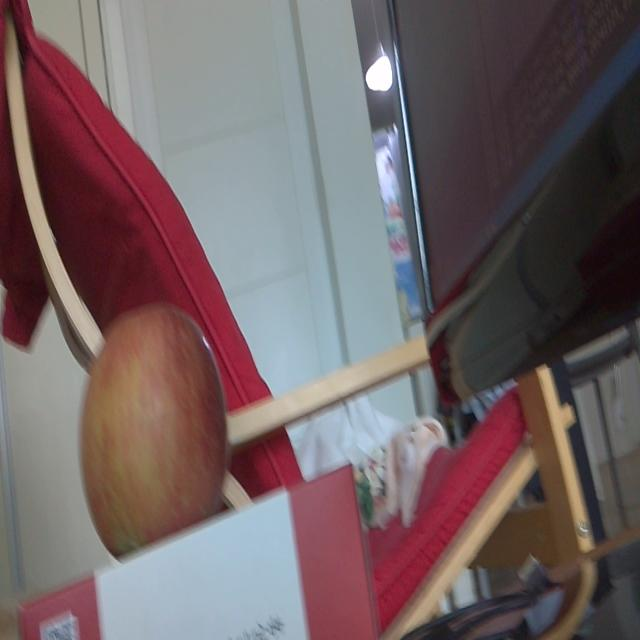apple: (78, 305, 226, 563)
